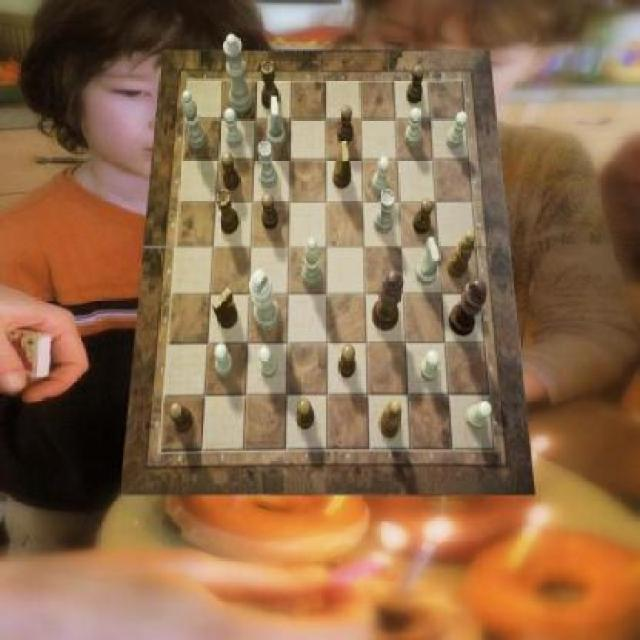bishop: (448, 231, 475, 280), (380, 400, 403, 438)
black-bishop: (449, 277, 487, 335)
black-king: (212, 288, 238, 330), (334, 140, 351, 189)
black-knight: (169, 401, 193, 434), (414, 198, 434, 234), (222, 152, 240, 191), (263, 192, 280, 230), (408, 64, 424, 104), (338, 106, 354, 145), (297, 398, 315, 431), (339, 345, 356, 379)
black-pawn: (372, 269, 405, 332)
black-queen: (217, 189, 240, 235), (262, 60, 280, 109)
black-rook: (183, 91, 208, 151), (303, 237, 323, 288)
white-bishop: (249, 269, 280, 332)
white-king: (416, 237, 440, 285), (266, 97, 286, 149)
white-knight: (446, 111, 469, 149), (224, 108, 243, 148), (466, 402, 492, 429), (372, 157, 390, 195), (406, 108, 423, 148), (214, 343, 233, 378), (258, 346, 278, 379), (420, 351, 440, 383)
white-pawn: (223, 34, 253, 114)
white-queen: (372, 189, 395, 235), (258, 140, 278, 188)
